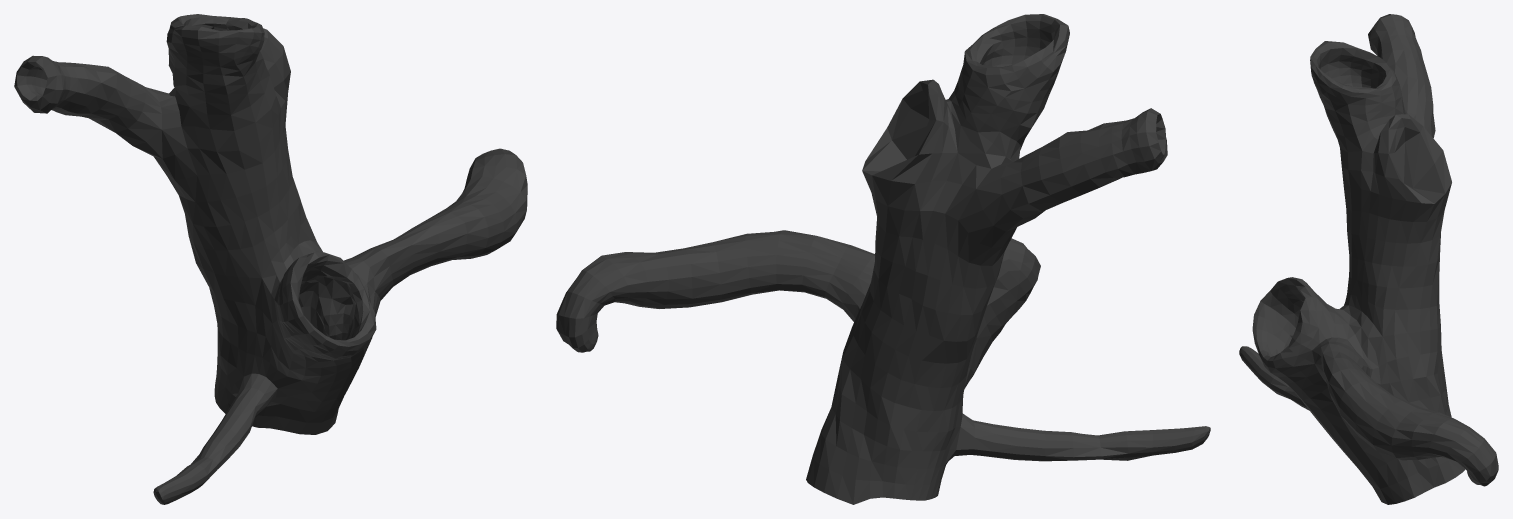
Rendered from Heart_cran_vena_cava.glb.
3 views of the same model, side by side, from view 1: azimuth 30°, elevation 25°; view 2: azimuth 150°, elevation 25°; view 3: azimuth 270°, elevation 25° (orthographic). The views are drawn at different scales.
Visible parts, largest first — view 1: Heart_cran_vena_cava; view 2: Heart_cran_vena_cava; view 3: Heart_cran_vena_cava.
Part boxes in pixels (x1,y1,x2,y2): Heart_cran_vena_cava: (14, 14, 527, 504); Heart_cran_vena_cava: (556, 14, 1210, 504); Heart_cran_vena_cava: (1239, 14, 1498, 504).
Size of the model in its own units: 0.5101 by 0.4222 by 0.2517.
Materials: 1 (1 with a texture image).
